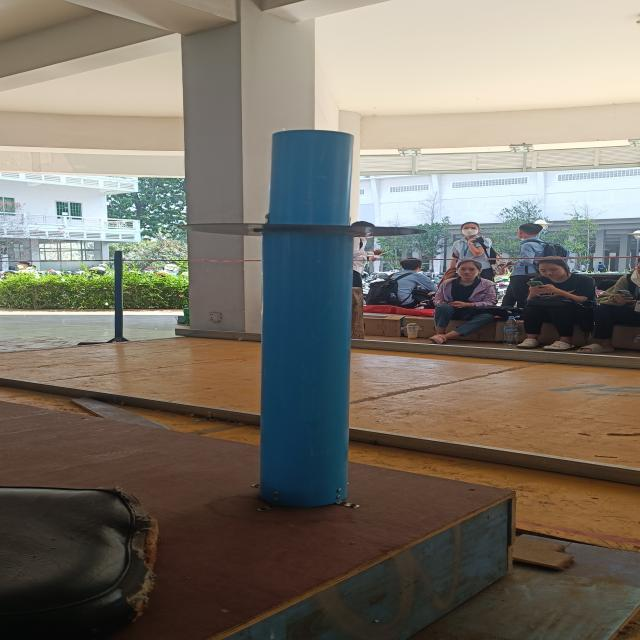pole: (169, 116, 440, 354)
